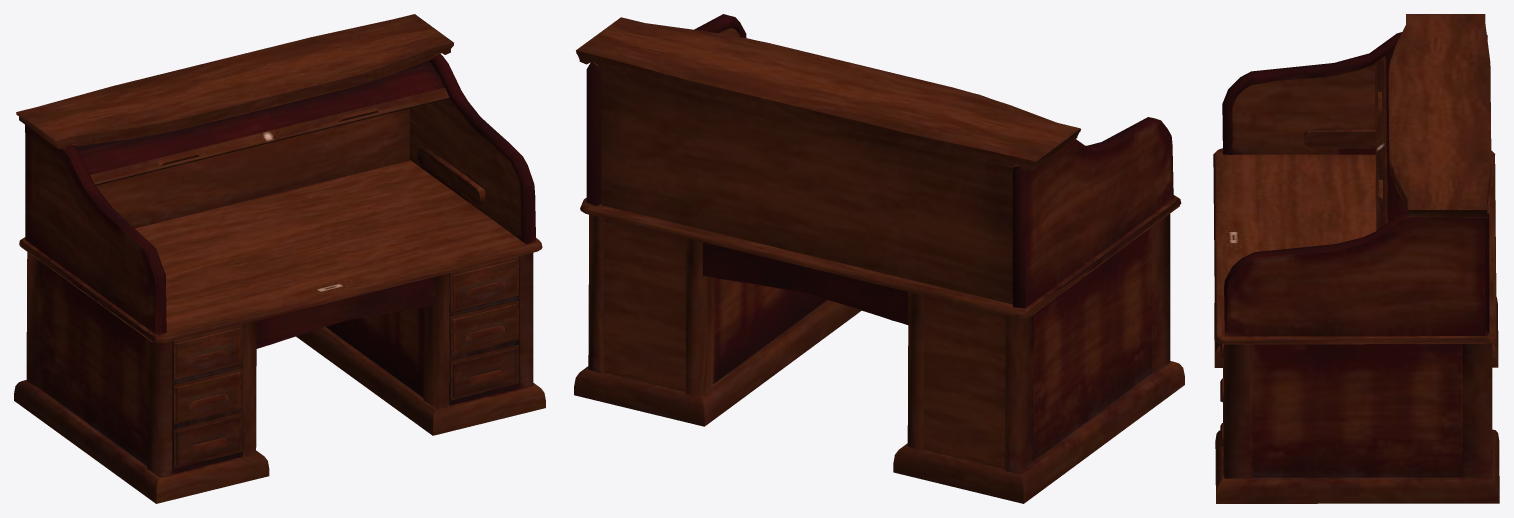
The model's file is table-4.glb.
The picture shows the model from 3 angles, left to right: view 1: azimuth 30°, elevation 25°; view 2: azimuth 150°, elevation 25°; view 3: azimuth 270°, elevation 25°; orthographic projection. The views are drawn at different scales.
Visible parts, largest first — view 1: Table; view 2: Table; view 3: Table.
Boxes of the visible parts, box(x1,y1,x2,y2) form: Table: box(14, 14, 545, 503); Table: box(574, 14, 1184, 503); Table: box(1213, 14, 1499, 503).
Bounding box in the file's own units: 8.33 × 5.86 × 5.14.
Materials: 1 (1 with a texture image).
